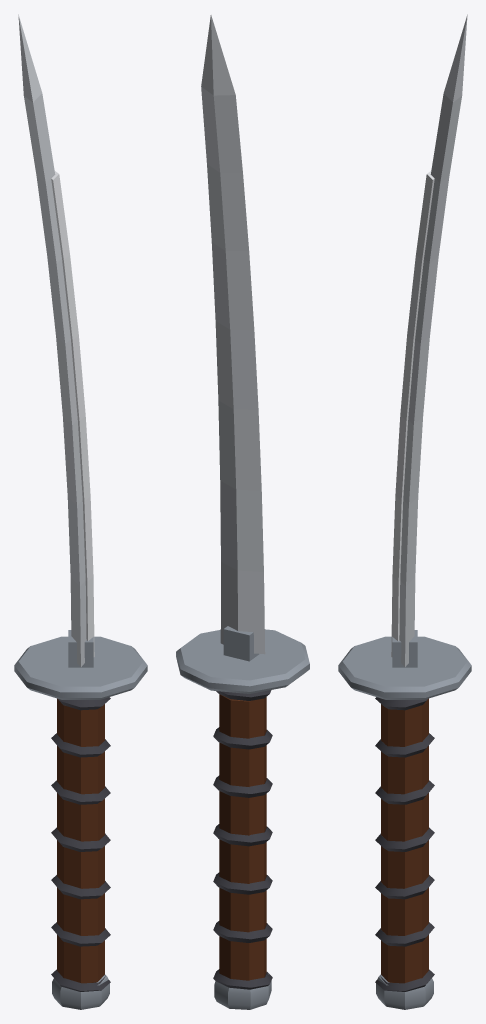
The model's file is IronKatana.fbx.
3 views of the same model, side by side, from view 1: azimuth 90°, elevation 25°; view 2: azimuth 150°, elevation 25°; view 3: azimuth 270°, elevation 25° (orthographic). The views are drawn at different scales.
Visible parts, largest first — view 1: IronKatana; view 2: IronKatana; view 3: IronKatana.
Part boxes in pixels (left/top/right/bottom): IronKatana: left=14, top=14, right=147, bottom=1009; IronKatana: left=176, top=15, right=309, bottom=1009; IronKatana: left=338, top=14, right=471, bottom=1009.
Size of the model in its own units: 0.6087 by 5.22 by 0.64.
1 material, 1 textured.
